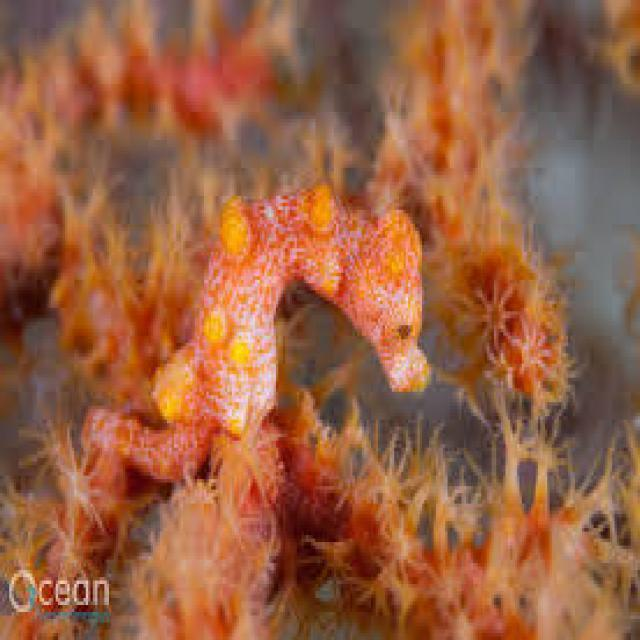SeaHorse: (86, 185, 433, 479)
